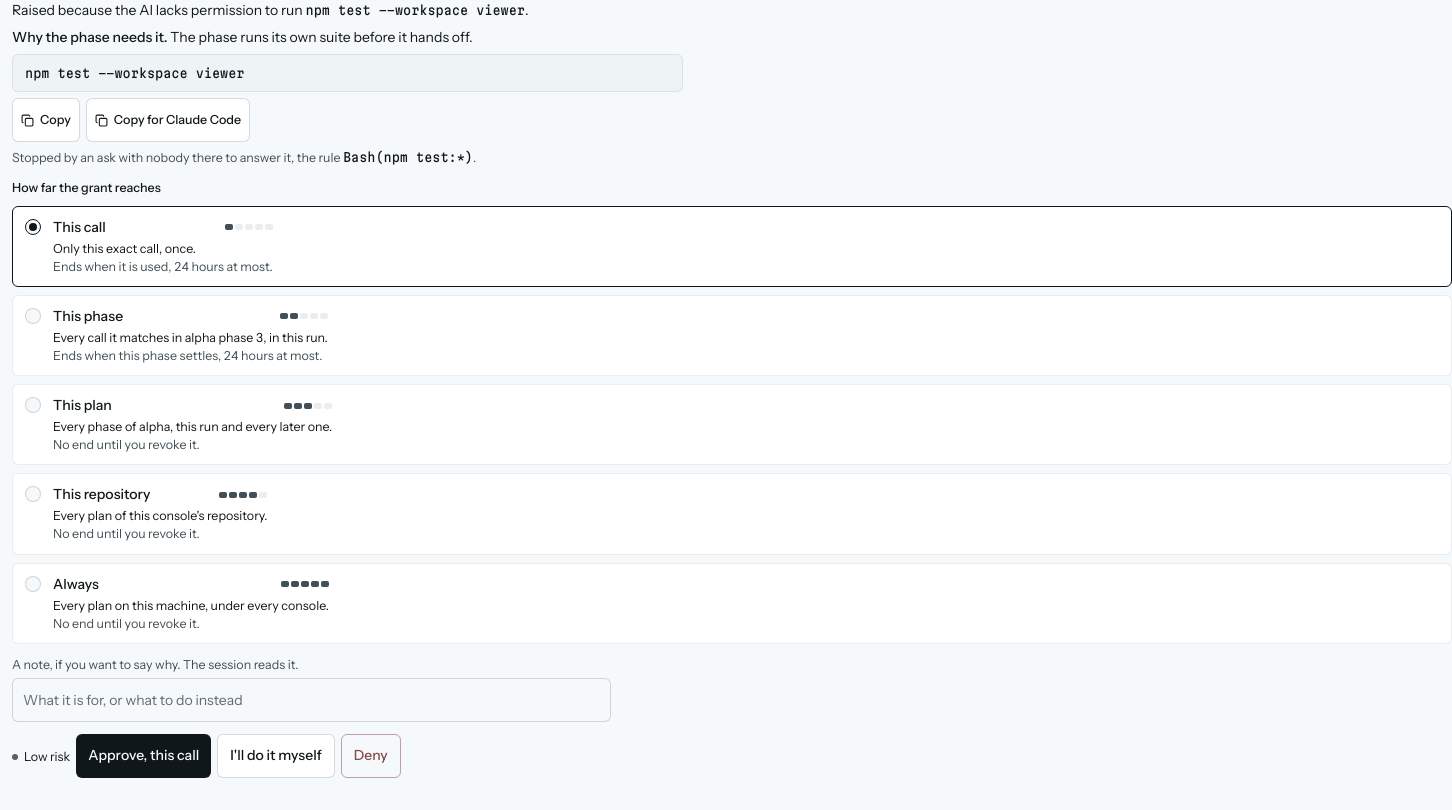
Test case: PC-3 a high grant asks for the rule typed › Always is high on any wall, and asks for the rule
Click the radio button named "always" next to "Always" at (33, 584), box [25, 576, 41, 592]
(page scrolled)
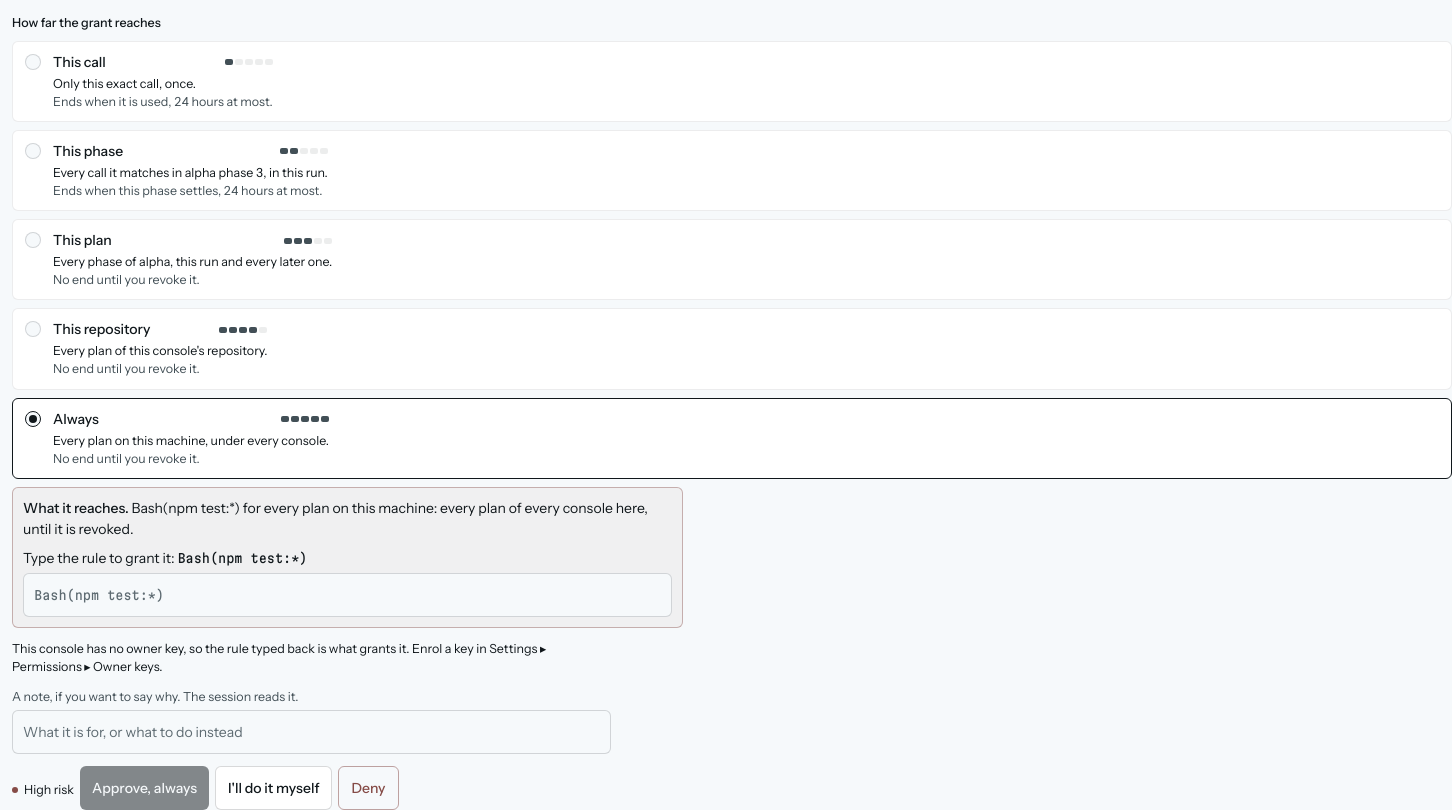
Check: the element with test id "grant-risk" reads "High risk", box [24, 782, 74, 797]
Check: the field labelled "Type the rule to grant it: Bash(npm test:*)" is shown, box [23, 573, 672, 617]
Check: the button with test id "turn-primary" is disabled, box [80, 766, 209, 809]
